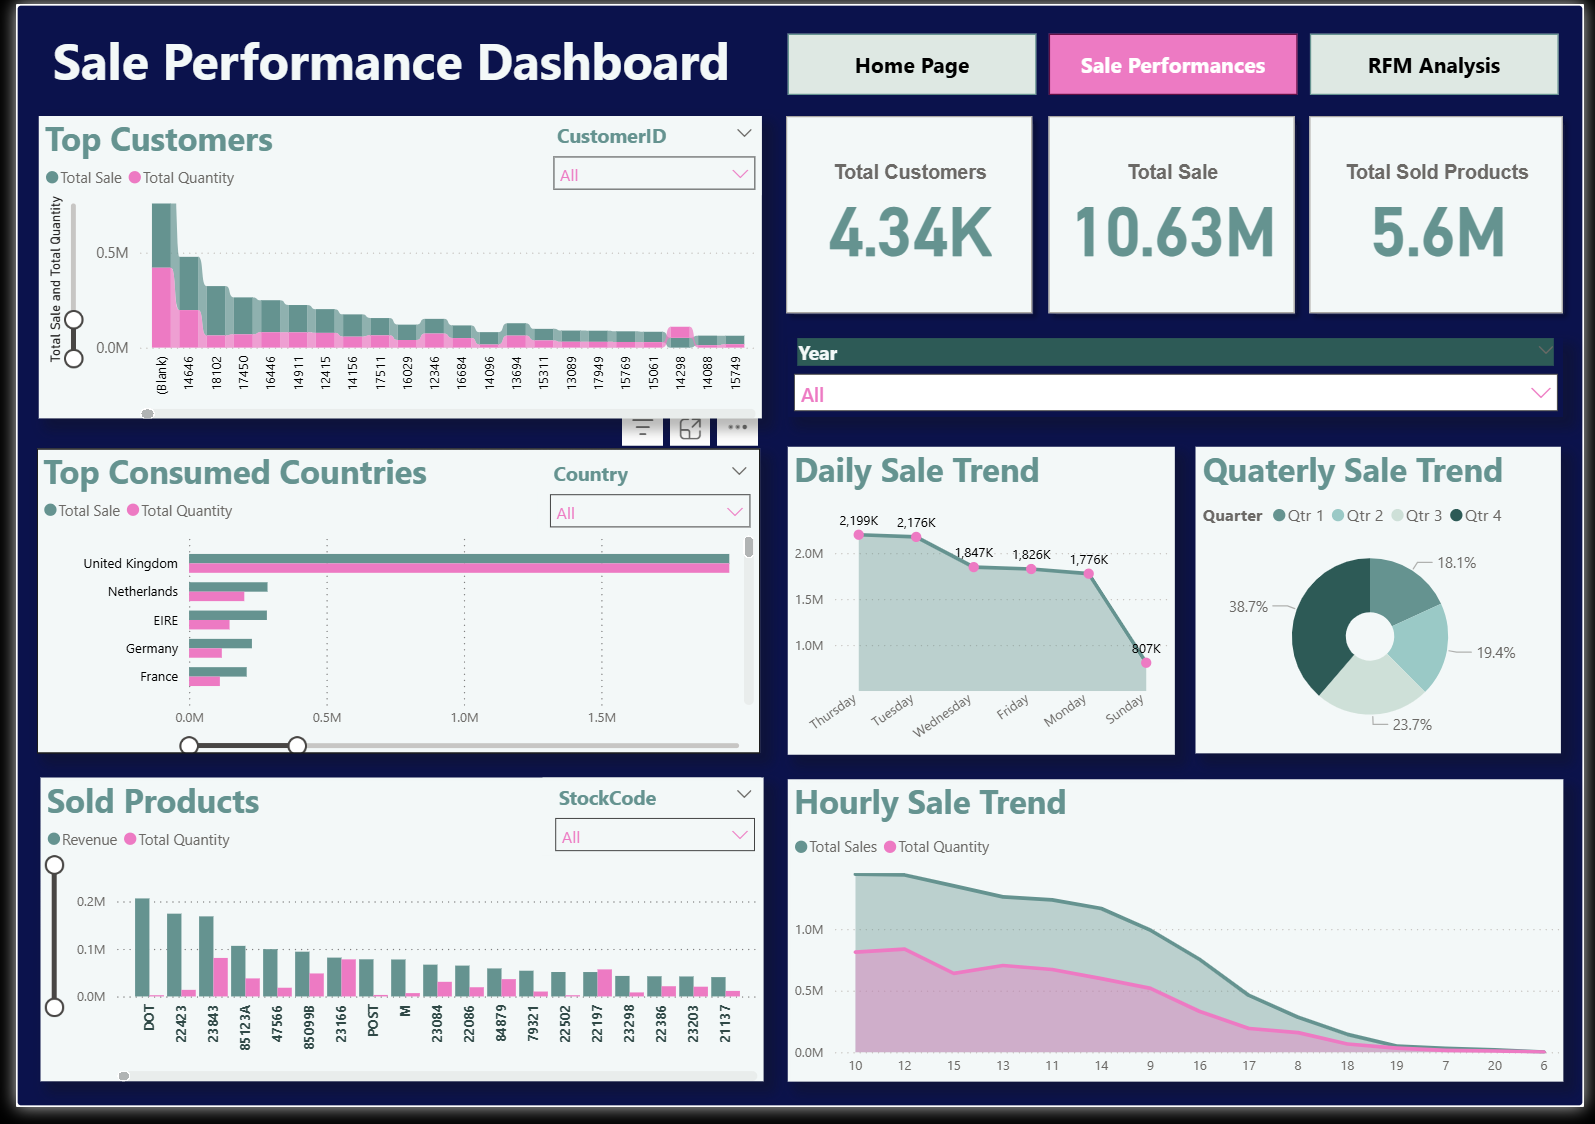

This screenshot's page, from the dashboard's own definition file:
{"tool":"powerbi","page":{"name":"Sale Performances","canvas":[1280,900],"ordinal":1},"visuals":[{"type":"shape","title":"Dashboard_Name","box":[0,0,620,74.3],"z":0},{"type":"ribbonChart","title":"Top Customers","fields":{"Category":["sale_view.CustomerID"],"Y":["Sum(sale_view.total_sales)","Sum(sale_view.Quantity)"]},"box":[18.8,91.2,590,247.1],"z":0,"group":"g4"},{"type":"donutChart","title":"Quaterly Sale Trend","fields":{"Category":["sale_view.InvoiceDate.Variation.Date Hierarchy.Quarter"],"Y":["Sum(sale_view.total_sales)"]},"box":[963.3,361.7,298.3,250],"z":0,"group":"g2"},{"type":"clusteredBarChart","title":"Top Consumed Countries","fields":{"Category":["sale_view.Country"],"Y":["Sum(sale_view.total_sales)","Sum(sale_view.Quantity)"]},"box":[17.1,362.9,590,248.3],"z":0,"group":"g3"},{"type":"clusteredColumnChart","title":"Sold Products","fields":{"Category":["sale_view.StockCode"],"Y":["Sum(sale_view.total_sales)","Sum(sale_view.Quantity)"]},"box":[20,631,590,247.7],"z":0,"group":"g1"},{"type":"cardVisual","fields":{"Data":["Count(sale_view.CustomerID)"]},"box":[611.4,74.3,235.7,195.7],"z":1000},{"type":"slicer","title":"CustomerID Filter","fields":{"Values":["sale_view.CustomerID"]},"box":[428.8,91.2,180,64.7],"z":1000,"group":"g4"},{"type":"slicer","title":"Country Filter","fields":{"Values":["sale_view.Country"]},"box":[425.5,367.4,178.6,62.9],"z":1000,"group":"g3"},{"type":"slicer","title":"Stock Code Filter","fields":{"Values":["InventoryManagementAnalysis_FinalView.StockCode"]},"box":[430,631,178.3,63.3],"z":1000,"group":"g1"},{"type":"cardVisual","title":"Card_total_products","fields":{"Data":["Sum(sale_view.Quantity)"]},"box":[1038.6,74.3,241.4,195.7],"z":2000},{"type":"cardVisual","title":"Card_revenue","fields":{"Data":["Sum(sale_view.total_sales)"]},"box":[825.7,74.3,235.7,195.7],"z":3000},{"type":"slicer","title":"Year Filter","fields":{"Values":["sale_view.InvoiceDate.Variation.Date Hierarchy.Year"]},"box":[630,273.3,633.3,64],"z":5000},{"type":"actionButton","title":"Help Desk Button","box":[18,640,74,66],"z":6000},{"type":"areaChart","title":"Hourly Sale Trend","fields":{"Category":["sale_view.hour"],"Y":["Sum(sale_view.total_sales)","Sum(sale_view.Quantity)"]},"box":[630,632.7,633.3,246.7],"z":7000},{"type":"stackedAreaChart","title":"Daily Sale Trend","fields":{"Category":["sale_view.dow"],"Y":["Sum(sale_view.total_sales)"]},"box":[630,361.2,316.2,251.2],"z":8000},{"type":"group","id":"g1","title":"Group 1","box":[20,631,590,248.3],"z":9000},{"type":"group","id":"g2","title":"Group 2","box":[963.3,361.7,298.3,250],"z":10000},{"type":"group","id":"g3","title":"Group 3","box":[17.1,362.9,590,248.3],"z":11000},{"type":"group","id":"g4","title":"Group 4","box":[18.8,91.2,590,247.5],"z":15000},{"type":"pageNavigator","box":[630,24.3,631.4,50],"z":16000}]}

Visuals, with their boxes in screenshot pixels (x1, y1, x2, y2), scaled from the page's 1280x900 canvas onto the 1595x1124 screenshot:
"Dashboard_Name" shape: <box>0,0,773,93</box>
"Top Customers" ribbonChart: <box>23,114,759,422</box>
"Quaterly Sale Trend" donutChart: <box>1200,452,1572,764</box>
"Top Consumed Countries" clusteredBarChart: <box>21,453,757,763</box>
"Sold Products" clusteredColumnChart: <box>25,788,760,1097</box>
cardVisual - Count(sale_view.CustomerID): <box>762,93,1056,337</box>
"CustomerID Filter" slicer: <box>534,114,759,195</box>
"Country Filter" slicer: <box>530,459,753,537</box>
"Stock Code Filter" slicer: <box>536,788,758,867</box>
"Card_total_products" cardVisual: <box>1294,93,1594,337</box>
"Card_revenue" cardVisual: <box>1029,93,1323,337</box>
"Year Filter" slicer: <box>785,341,1574,421</box>
"Help Desk Button" actionButton: <box>22,799,115,882</box>
"Hourly Sale Trend" areaChart: <box>785,790,1574,1098</box>
"Daily Sale Trend" stackedAreaChart: <box>785,451,1179,765</box>
"Group 1" group: <box>25,788,760,1098</box>
"Group 2" group: <box>1200,452,1572,764</box>
"Group 3" group: <box>21,453,757,763</box>
"Group 4" group: <box>23,114,759,423</box>
pageNavigator: <box>785,30,1572,93</box>
